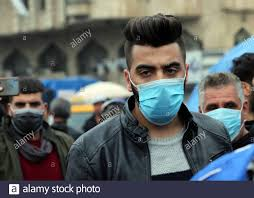with-mask: (120, 26, 193, 132), (195, 73, 250, 142), (8, 78, 50, 136)
